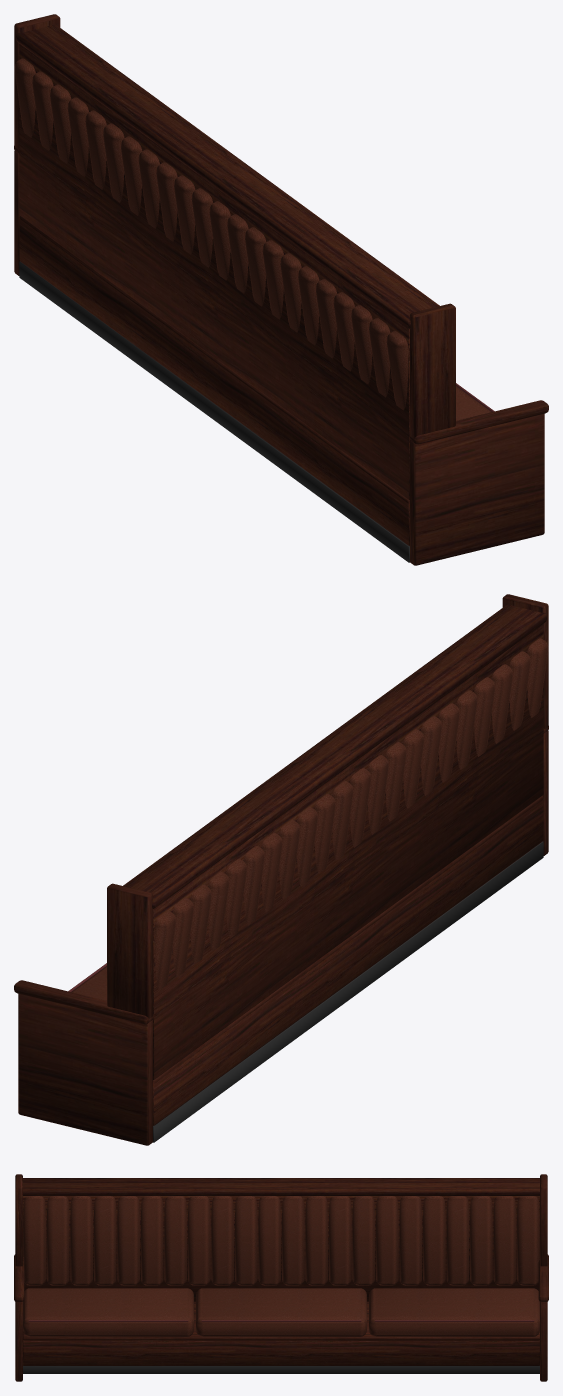
Rendered from booth.glb.
3 renders of one model, top to bottom at view 1: azimuth 30°, elevation 25°; view 2: azimuth 150°, elevation 25°; view 3: azimuth 270°, elevation 25°, orthographic. The views are drawn at different scales.
Parts seen in each view (by area): view 1: Booth wood, Booth leather, Toe kick; view 2: Booth wood, Booth leather, Toe kick; view 3: Booth leather, Booth wood, Toe kick, Leather seam.
Boxes of the visible parts, x1,y1,x2,y2 form: Booth wood: (14,14,548,565); Booth leather: (14,58,491,420); Toe kick: (19,261,410,562); Booth wood: (14,594,548,1145); Booth leather: (71,638,548,1000); Toe kick: (152,841,543,1142); Booth leather: (23,1196,539,1336); Booth wood: (14,1174,548,1381); Toe kick: (23,1366,539,1373); Leather seam: (28,1320,534,1321).
Size of the model in its own units: 0.7443 by 1.24 by 3.62.
4 materials, 2 textured.
